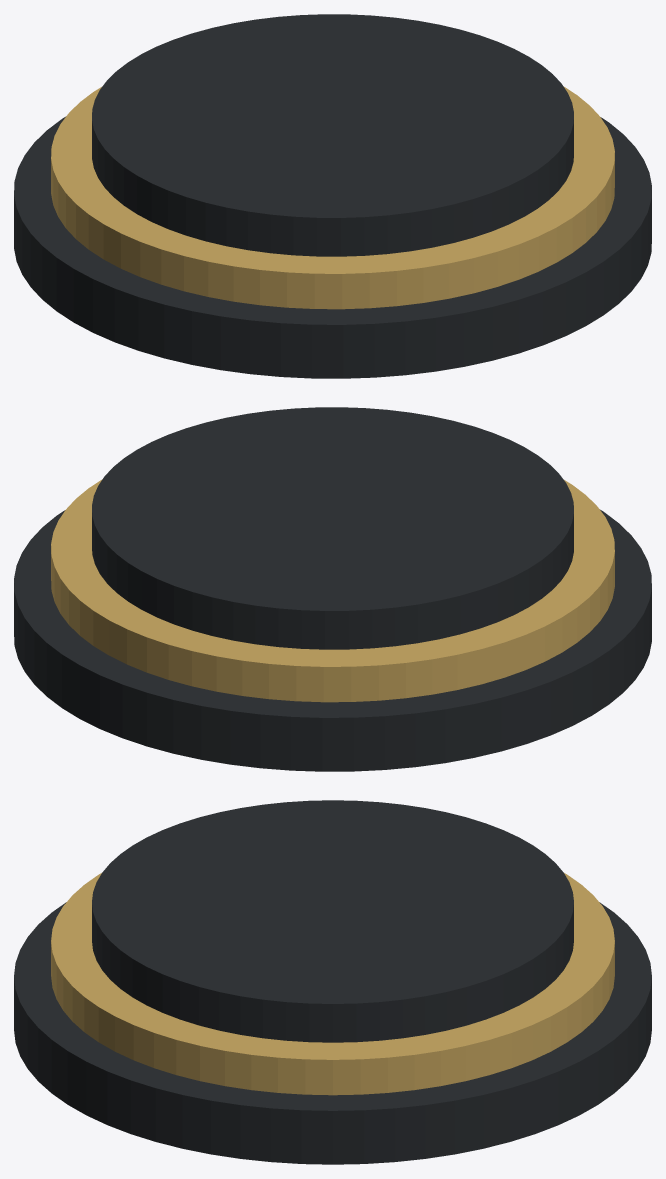
File: button_base.glb
3 views of the same model, one above another, from view 1: azimuth 30°, elevation 25°; view 2: azimuth 150°, elevation 25°; view 3: azimuth 270°, elevation 25° (orthographic).
Visible parts, largest first — view 1: DarkCollar, LowerBase, BrassRing; view 2: DarkCollar, LowerBase, BrassRing; view 3: DarkCollar, LowerBase, BrassRing.
Boxes of the visible parts, box(x1,y1,x2,y2) form: DarkCollar: box(92, 14, 573, 256); LowerBase: box(14, 116, 651, 378); BrassRing: box(51, 86, 614, 309); DarkCollar: box(92, 407, 573, 649); LowerBase: box(14, 509, 651, 771); BrassRing: box(51, 479, 614, 702); DarkCollar: box(92, 800, 573, 1042); LowerBase: box(14, 902, 651, 1164); BrassRing: box(51, 873, 614, 1095).
Size of the model in its own units: 0.86 by 0.19 by 0.86.
